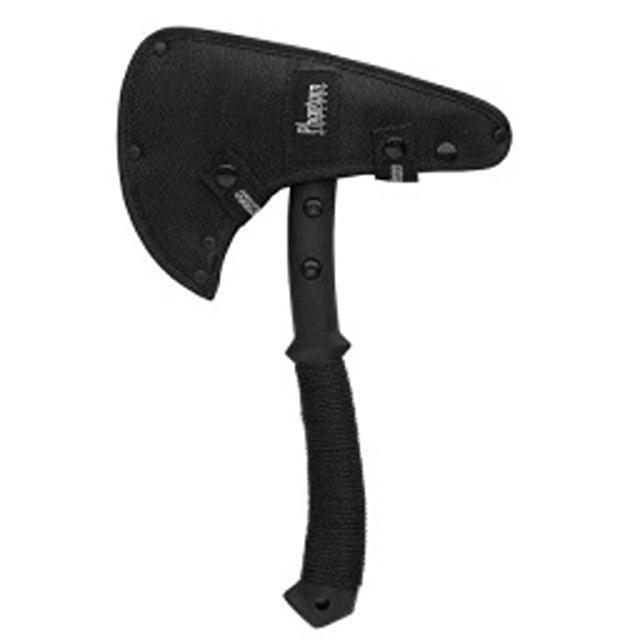ax: (112, 14, 514, 640)
